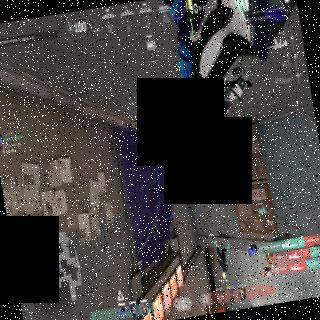ENEMY-BODY: (217, 136, 230, 181)
ENEMY-HEAD: (224, 172, 228, 180)
